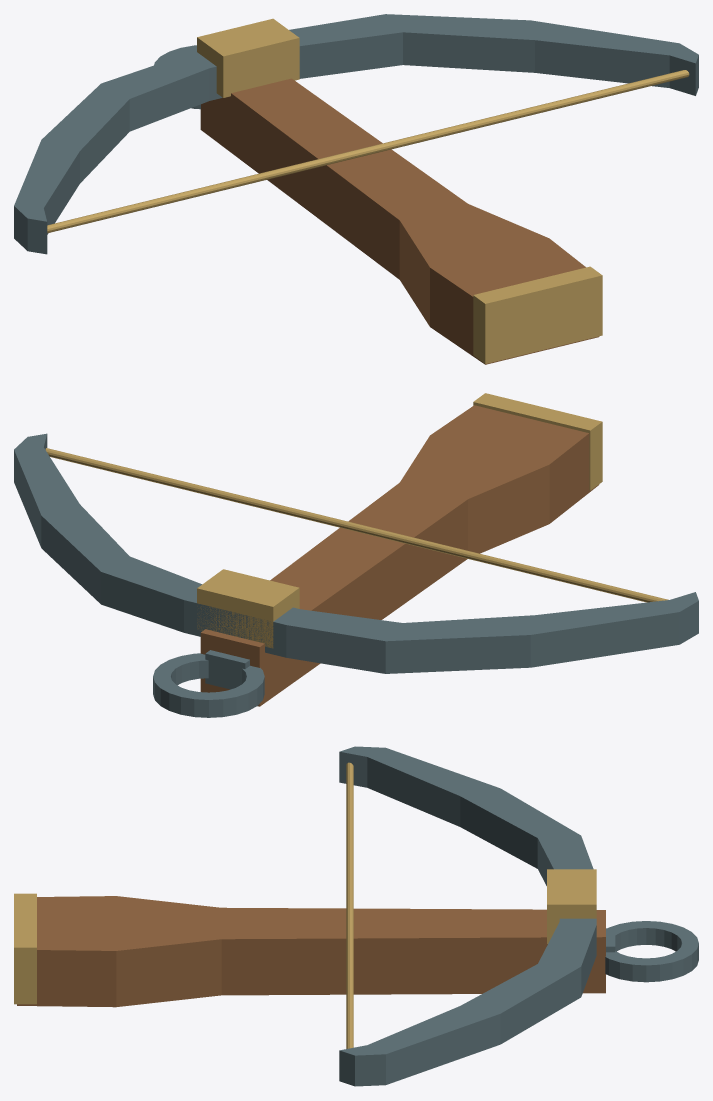
The picture shows the model from 3 angles, top to bottom: view 1: azimuth 30°, elevation 25°; view 2: azimuth 150°, elevation 25°; view 3: azimuth 270°, elevation 25°; orthographic projection. The views are drawn at different scales.
Parts seen in each view (by area): view 1: WholeSolidBluntFantasyStock, WholeThickTransverseBluntBow, WholeRearButtTrim, WholeFixedDecorativeTipCord, WholeProudCentreBindingBlock; view 2: WholeThickTransverseBluntBow, WholeSolidBluntFantasyStock, WholeFixedDecorativeTipCord, WholeProudCentreBindingBlock, WholeBluntForeLoop, WholeRearButtTrim, WholeForeLoopSolidRoot; view 3: WholeSolidBluntFantasyStock, WholeThickTransverseBluntBow, WholeBluntForeLoop, WholeProudCentreBindingBlock, WholeRearButtTrim, WholeFixedDecorativeTipCord.
Boxes of the visible parts, x1=… form: WholeSolidBluntFantasyStock: x1=200, y1=78, x2=599, y2=364; WholeThickTransverseBluntBow: x1=14, y1=14, x2=698, y2=254; WholeRearButtTrim: x1=473, y1=266, x2=602, y2=363; WholeFixedDecorativeTipCord: x1=47, y1=70, x2=689, y2=233; WholeProudCentreBindingBlock: x1=197, y1=18, x2=299, y2=97; WholeThickTransverseBluntBow: x1=14, y1=433, x2=698, y2=673; WholeSolidBluntFantasyStock: x1=200, y1=405, x2=599, y2=706; WholeFixedDecorativeTipCord: x1=45, y1=448, x2=668, y2=602; WholeProudCentreBindingBlock: x1=197, y1=569, x2=299, y2=648; WholeBluntForeLoop: x1=153, y1=653, x2=264, y2=717; WholeRearButtTrim: x1=473, y1=393, x2=602, y2=490; WholeForeLoopSolidRoot: x1=205, y1=650, x2=249, y2=689; WholeSolidBluntFantasyStock: x1=17, y1=896, x2=605, y2=1007; WholeThickTransverseBluntBow: x1=339, y1=746, x2=596, y2=1086; WholeBluntForeLoop: x1=605, y1=921, x2=698, y2=982; WholeProudCentreBindingBlock: x1=547, y1=869, x2=596, y2=943; WholeRearButtTrim: x1=14, y1=893, x2=36, y2=1004; WholeFixedDecorativeTipCord: x1=346, y1=762, x2=353, y2=1048.
Bounding box in the file's own units: 1.18 × 0.165 × 1.11.
